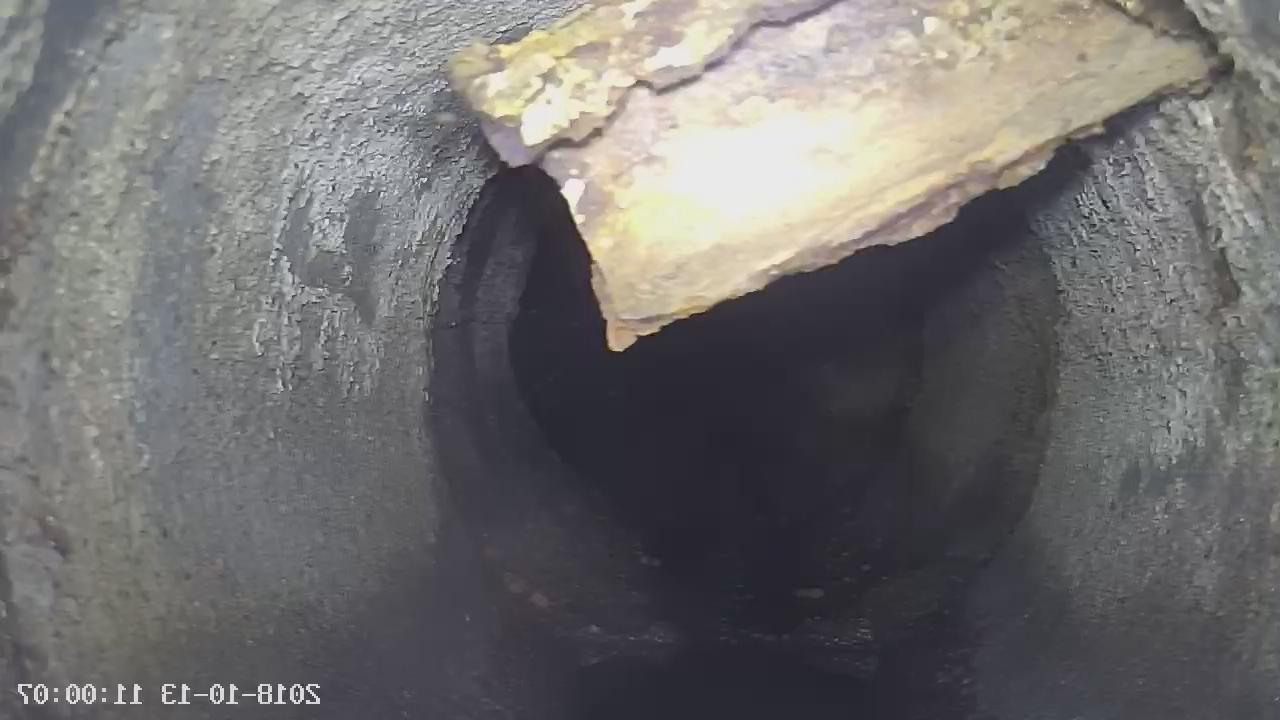YWCR: (443, 0, 1219, 350)
